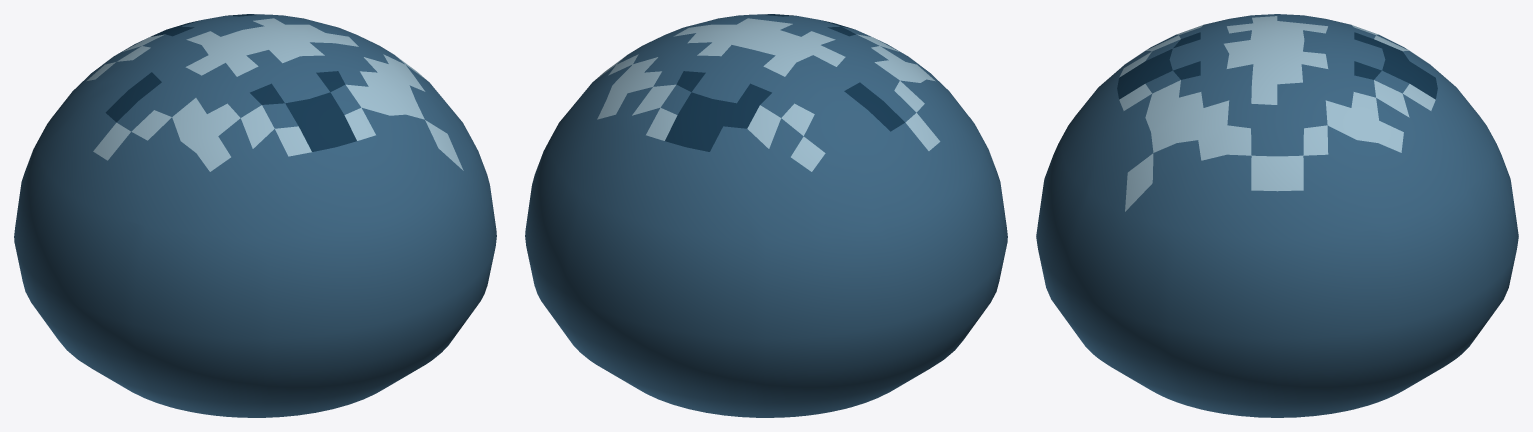
The model's file is newshv-153.glb.
3 views of the same model, side by side, from view 1: azimuth 30°, elevation 25°; view 2: azimuth 150°, elevation 25°; view 3: azimuth 270°, elevation 25° (orthographic).
Parts seen in each view (by area): view 1: newshv-153; view 2: newshv-153; view 3: newshv-153.
Part boxes in pixels (x1,y1,x2,y2): newshv-153: (14, 14, 496, 417); newshv-153: (525, 14, 1007, 417); newshv-153: (1036, 14, 1518, 417).
Bounding box in the file's own units: 1.57 × 1.25 × 1.57.
